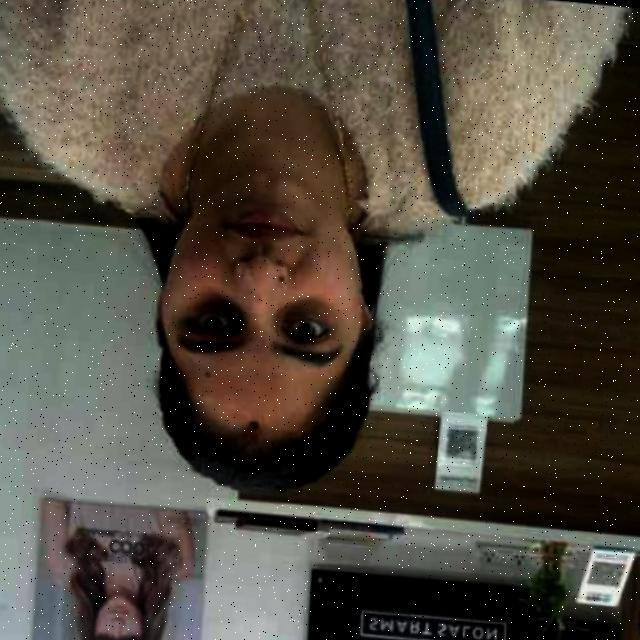puffy_eyes: (205, 297, 249, 332), (278, 301, 333, 319)
